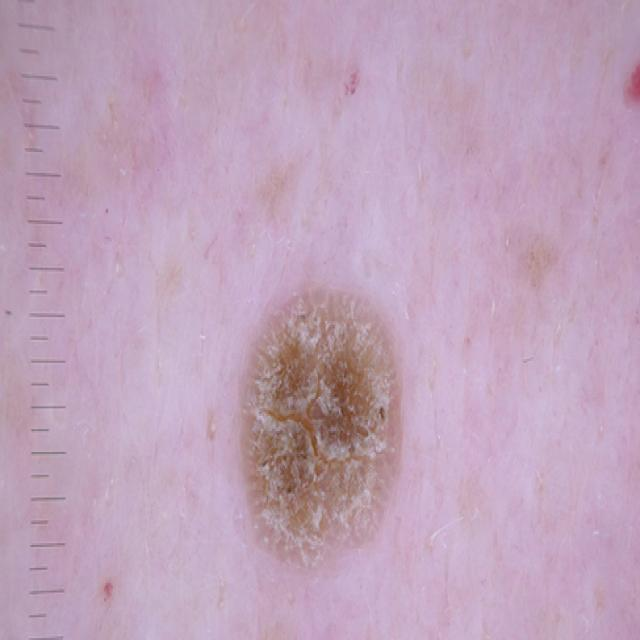Keratosis: (232, 255, 452, 612)
